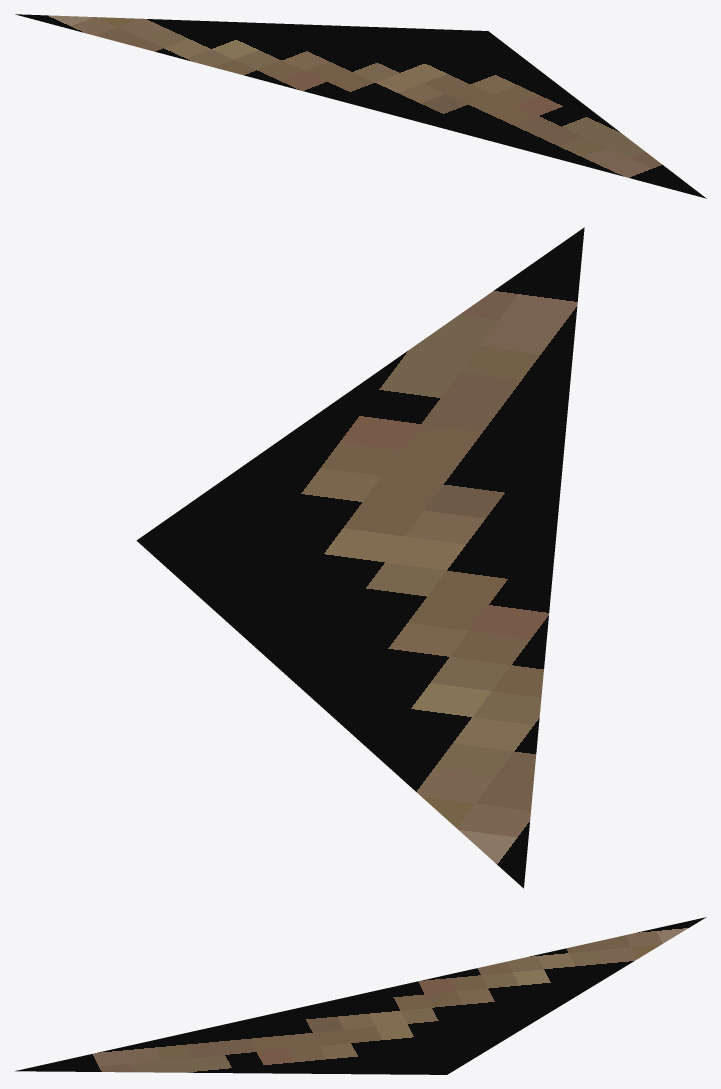
The model's file is objects_me_twig01.gltf.
The picture shows the model from 3 angles, top to bottom: view 1: azimuth 30°, elevation 25°; view 2: azimuth 150°, elevation 25°; view 3: azimuth 270°, elevation 25°; orthographic projection. The views are drawn at different scales.
Visible parts, largest first — view 1: objects_me_twig01; view 2: objects_me_twig01; view 3: objects_me_twig01.
Boxes of the visible parts, x1=… form: objects_me_twig01: x1=15, y1=14, x2=706, y2=198; objects_me_twig01: x1=136, y1=227, x2=584, y2=888; objects_me_twig01: x1=15, y1=917, x2=706, y2=1074.
Size of the model in its own units: 0.2735 by 0 by 0.507.
Materials: 1 (1 with a texture image).
